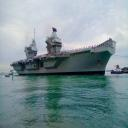Portanaves: (11, 27, 118, 78)
